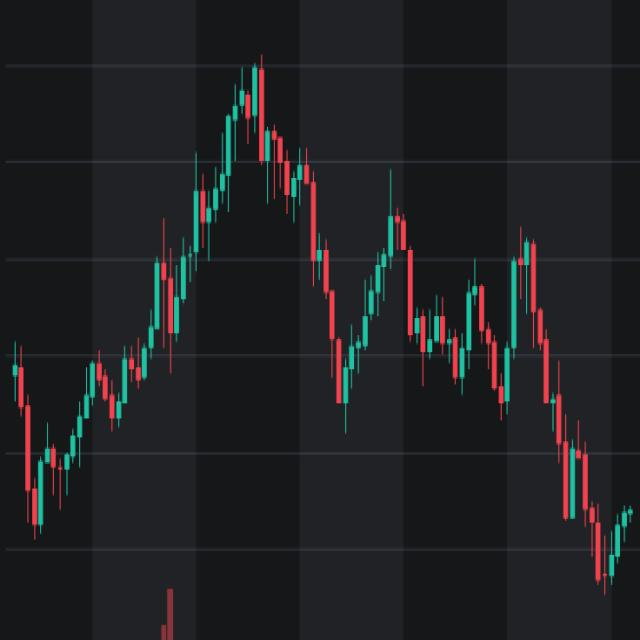Rising-Wedge: (4, 15, 287, 606)
